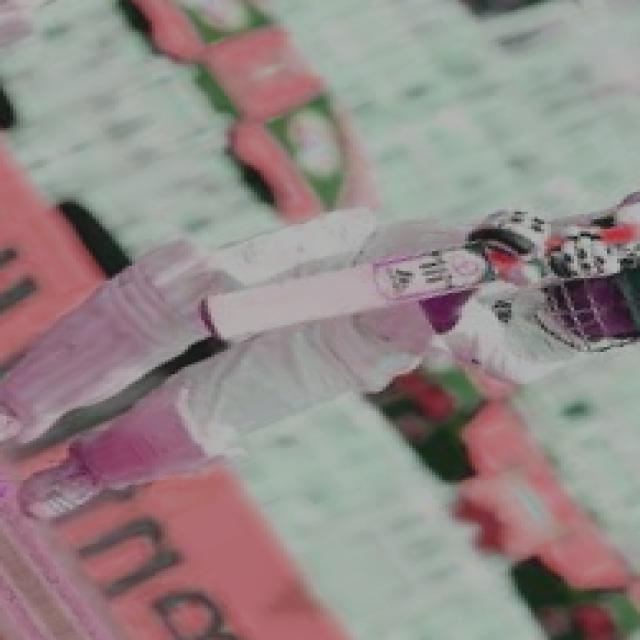bat: (199, 240, 495, 347)
toe: (199, 295, 225, 345)
